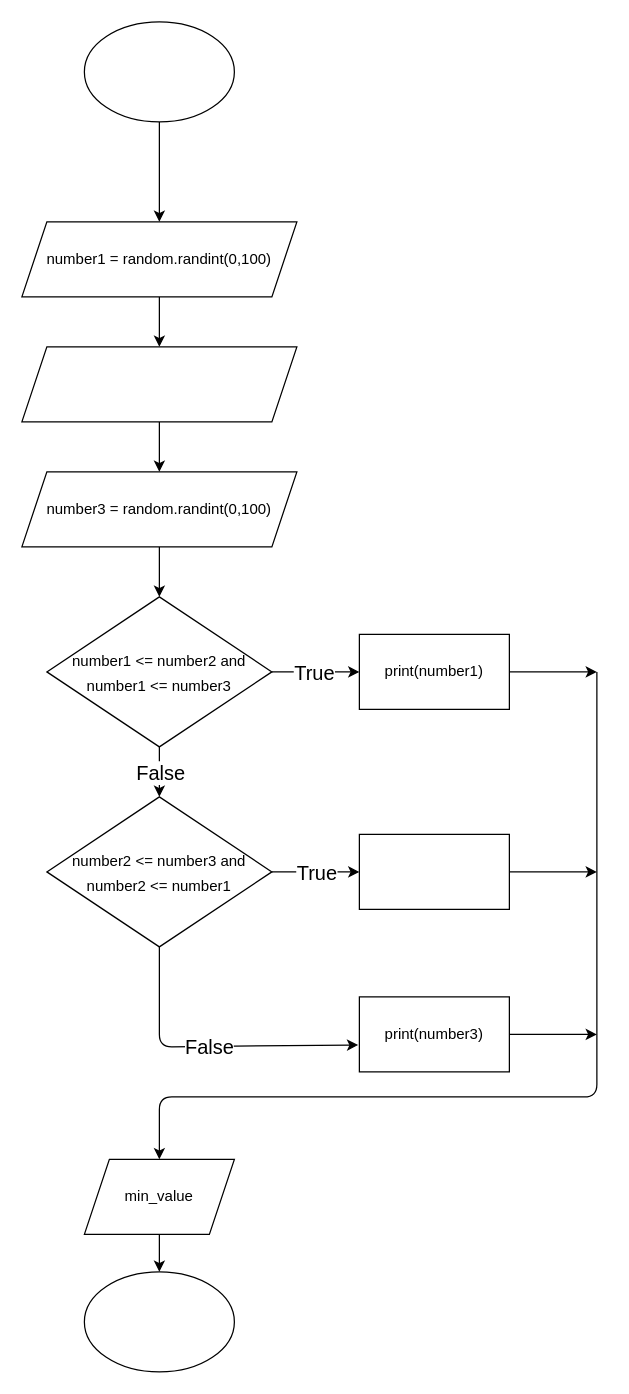
Some shapes in this 629 by 1394 pixel diagram are drawn without their labels. The shapes that lost their labels are listed below. From the top down, each one's centre as x and y in pixels, then its label:
At point (158, 71): "Start".
At point (159, 384): "number2 = random.randint(0,100)".
At point (433, 871): "print(number2)".
At point (158, 1321): "End".
